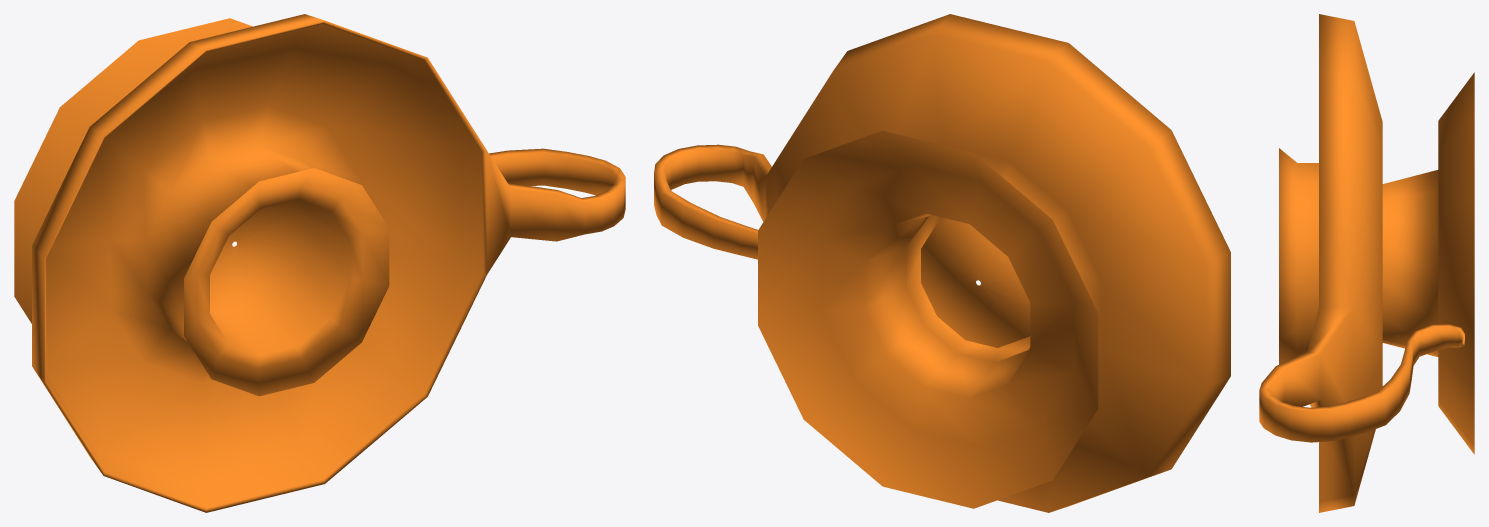
3 renders of one model, left to right at view 1: azimuth 30°, elevation 25°; view 2: azimuth 150°, elevation 25°; view 3: azimuth 270°, elevation 25°, orthographic. The views are drawn at different scales.
Bounding box in the file's own units: 0.7595 × 0.5885 × 0.2591.
